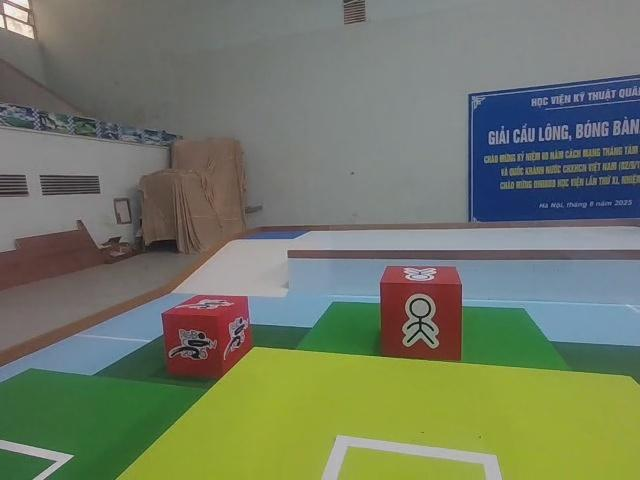R1: (163, 294, 248, 380)
R2 Real: (379, 263, 464, 363)
